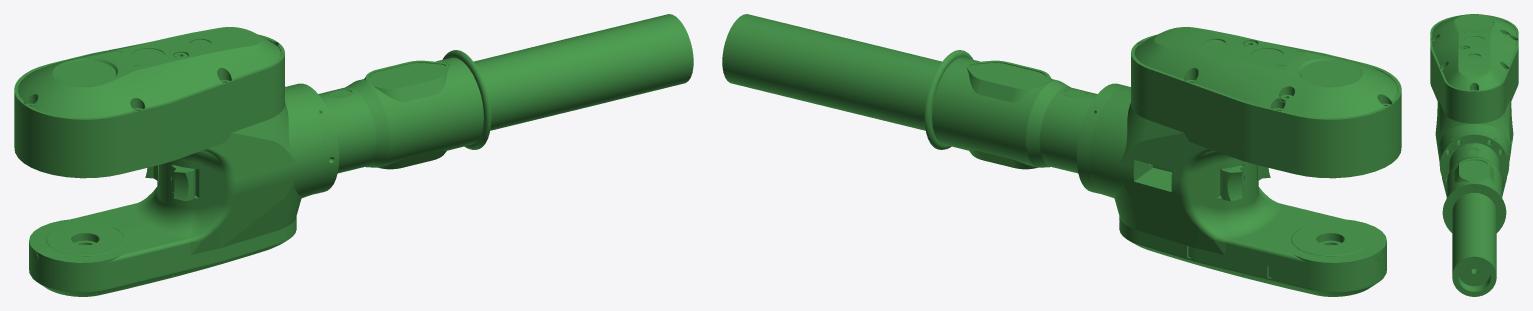
3 views of the same model, side by side, from view 1: azimuth 30°, elevation 25°; view 2: azimuth 150°, elevation 25°; view 3: azimuth 270°, elevation 25° (orthographic). The views are drawn at different scales.
Parts seen in each view (by area): view 1: Body1 (×3), Body10; view 2: Body1 (×3), Body10; view 3: Body1 (×3), Body10.
Part boxes in pixels (x1,y1,x2,y2): Body1 (×3): [14, 27, 491, 296]; Body10: [474, 14, 693, 130]; Body1 (×3): [924, 27, 1401, 296]; Body10: [722, 14, 941, 130]; Body1 (×3): [1430, 14, 1518, 232]; Body10: [1452, 194, 1496, 296].
Bounding box in the file's own units: 316 × 99 × 59.8.
